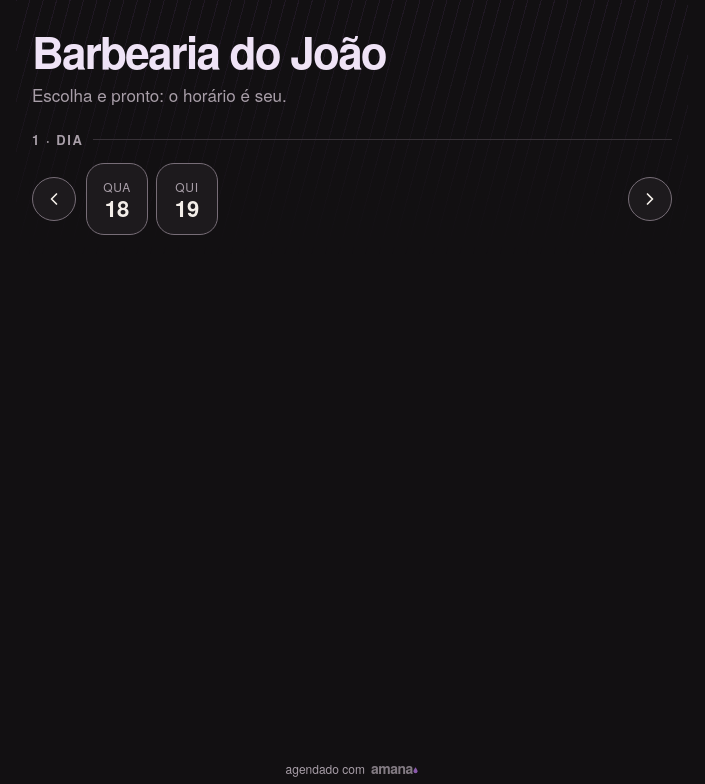
Test: página pública de agendamento › aviso de privacidade: o que é guardado, por quanto tempo e como pedir para apagar (LGPD)
Click the button "qua 18": [117, 199] box x1=86 y1=163 x2=148 y2=235
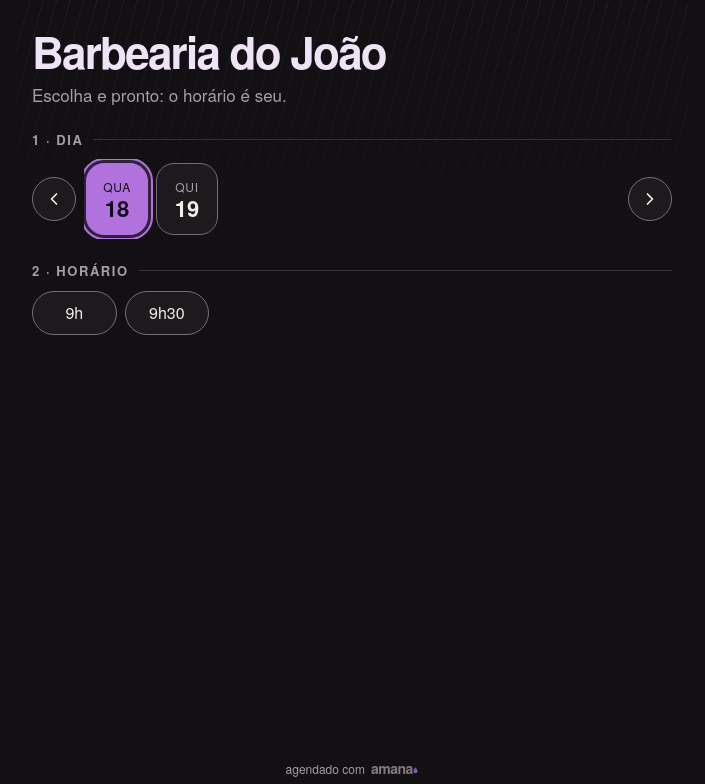
Click the button "9h": [74, 313] box x1=32 y1=291 x2=117 y2=335
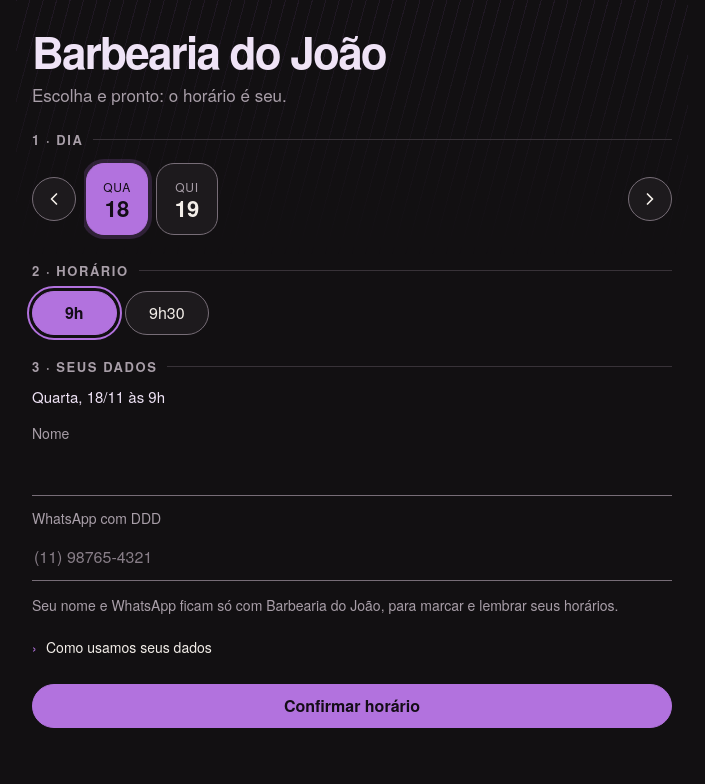
Click the heading "Como usamos seus dados": [129, 647] box x1=46 y1=637 x2=212 y2=657
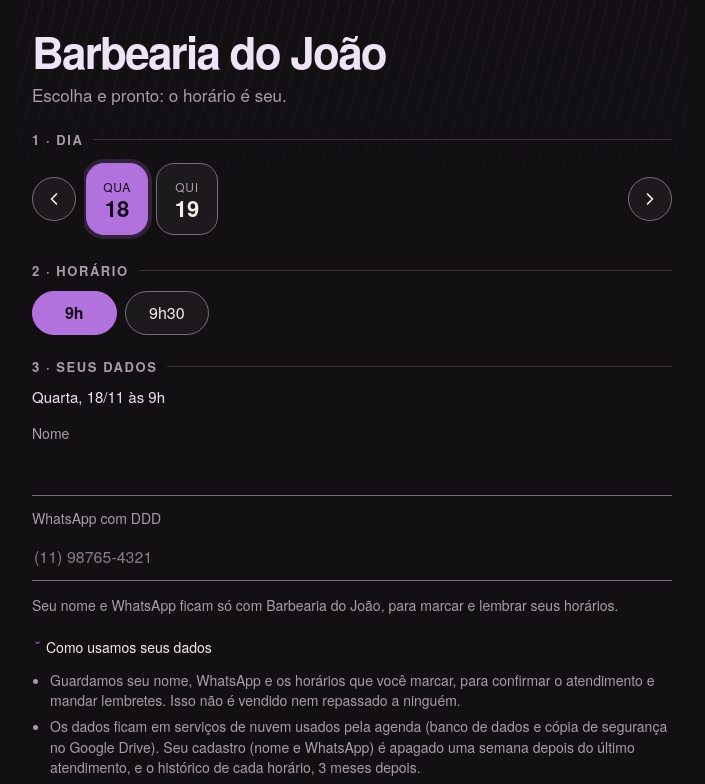
Expected: the list item "não é vendido nem repassado" is shown, x1=50 y1=670 x2=654 y2=710
Expected: the list item "apagado uma semana depois do último atendimento" is shown, x1=50 y1=716 x2=667 y2=777
